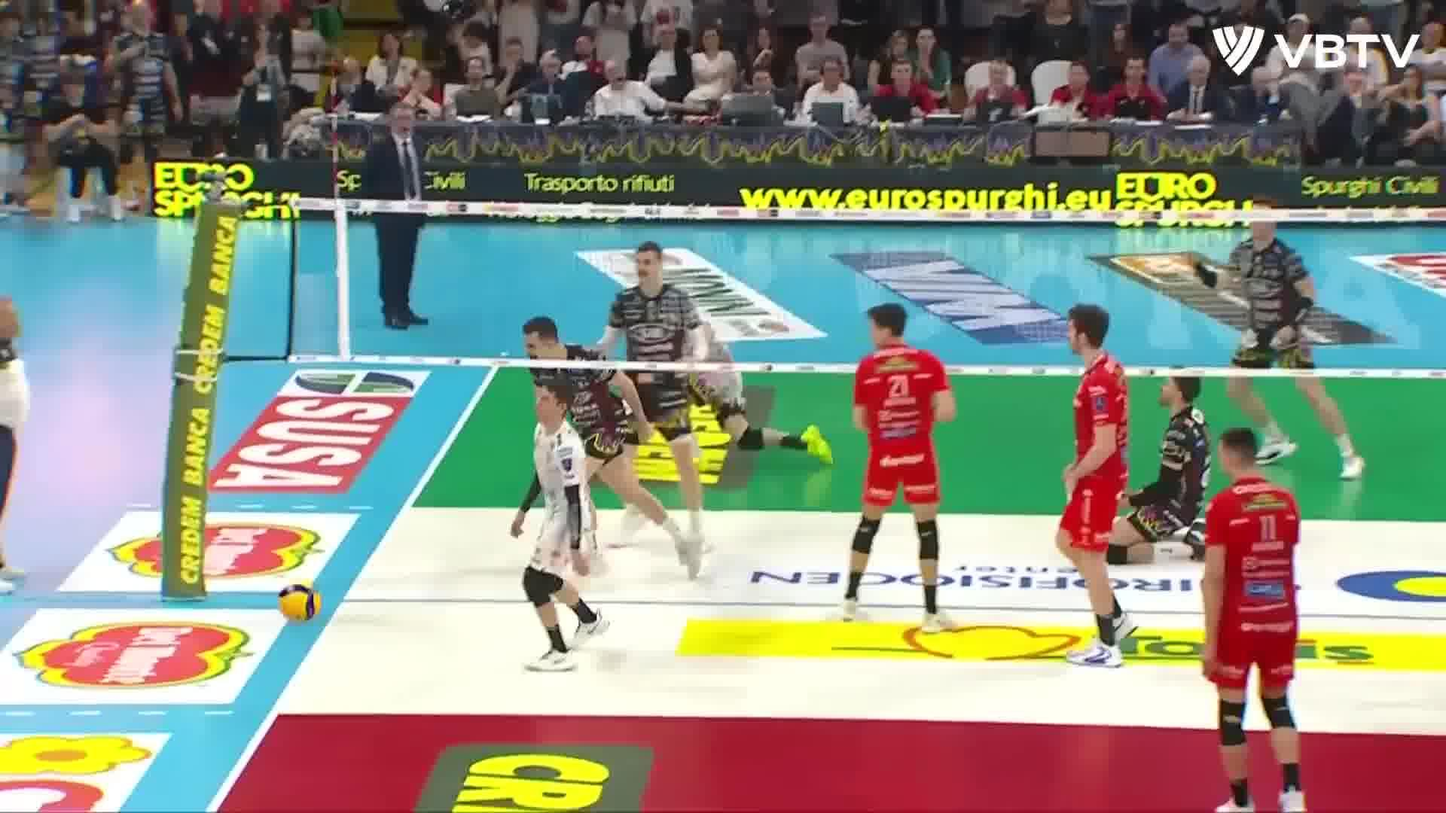balls: (278, 577, 324, 626)
